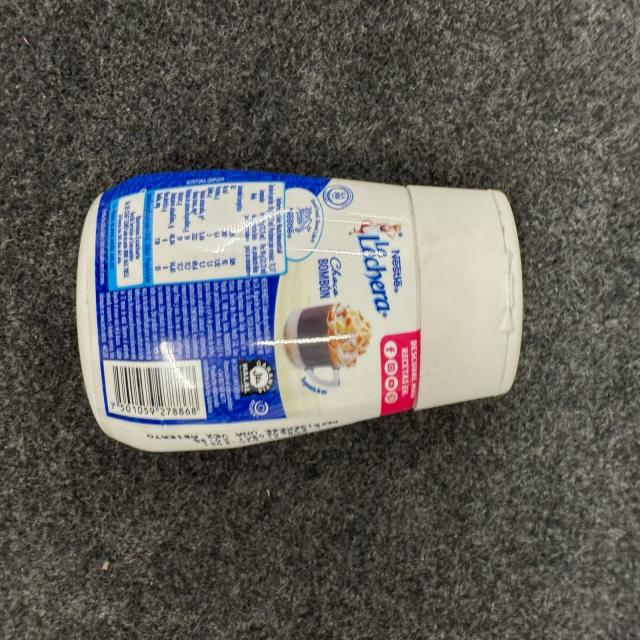La Lechera Sirve Facil 335gr Bote: (74, 167, 524, 454)
